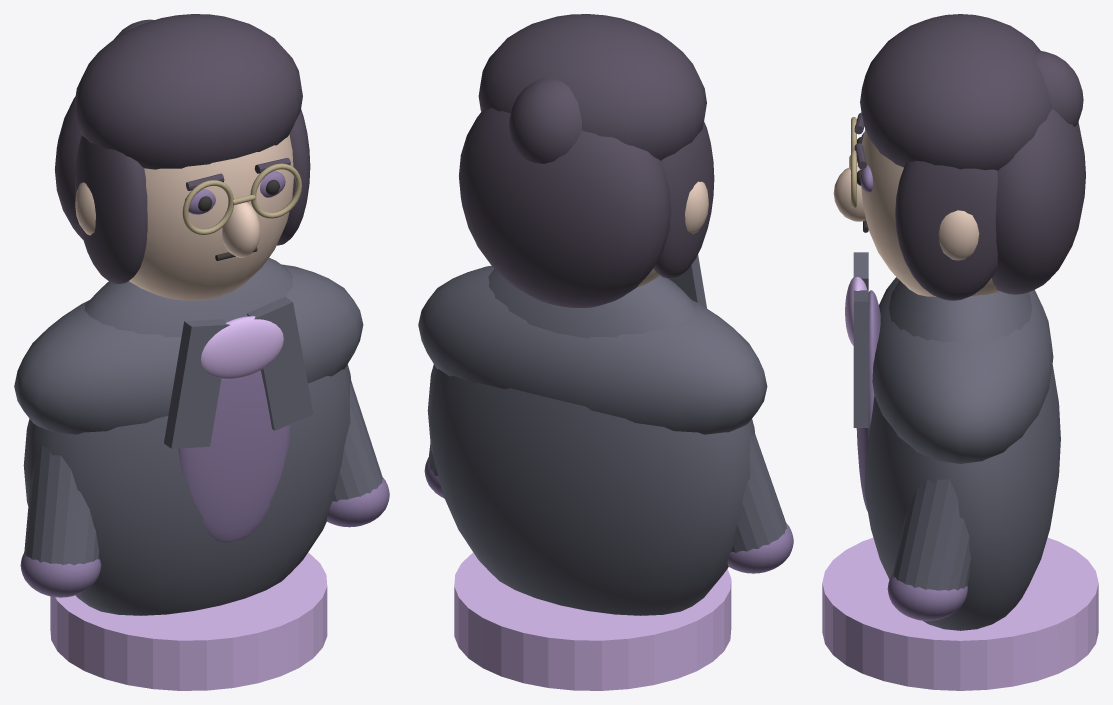
The model's file is quant.glb.
The picture shows the model from 3 angles, left to right: view 1: azimuth 30°, elevation 25°; view 2: azimuth 150°, elevation 25°; view 3: azimuth 270°, elevation 25°; orthographic projection.
Visible parts, largest first — view 1: Jacket torso, Hair cap, Bust plinth, Shoulder line, Head, Shirt front, Hair side lock.007, Arm.007, Jacket lapel.006, Jacket lapel.007, Violet collar, Arm (+8 smaller); view 2: Jacket torso, Shoulder line, Rear hair, Bust plinth, Hair cap, Hair bun, Hair side lock.007, Arm.007, Cuff.007, Ear.007, Jacket lapel.006; view 3: Jacket torso, Bust plinth, Hair cap, Shoulder line, Rear hair, Hair side lock, Arm, Head, Cuff, Jacket lapel.007, Hair bun, Shirt front (+4 smaller).
Boxes of the visible parts, <box> form: Jacket torso: <box>23,257,351,615</box>; Hair cap: <box>74,14,302,169</box>; Bust plinth: <box>50,552,327,690</box>; Shoulder line: <box>14,264,363,434</box>; Head: <box>129,134,293,300</box>; Shirt front: <box>178,370,290,542</box>; Hair side lock.007: <box>75,135,147,284</box>; Arm.007: <box>24,445,98,565</box>; Jacket lapel.006: <box>164,319,229,448</box>; Jacket lapel.007: <box>247,296,313,430</box>; Violet collar: <box>201,316,283,379</box>; Arm: <box>333,381,382,501</box>; Jacket torso: <box>427,269,755,615</box>; Shoulder line: <box>418,265,767,434</box>; Rear hair: <box>459,108,671,307</box>; Bust plinth: <box>454,552,731,690</box>; Hair cap: <box>478,14,706,160</box>; Hair bun: <box>509,78,582,163</box>; Hair side lock.007: <box>653,121,714,278</box>; Arm.007: <box>731,434,787,552</box>; Cuff.007: <box>727,523,793,573</box>; Ear.007: <box>685,181,708,233</box>; Jacket lapel.006: <box>668,255,706,308</box>; Jacket torso: <box>864,280,1060,630</box>; Bust plinth: <box>822,538,1098,690</box>; Hair cap: <box>860,14,1051,170</box>; Shoulder line: <box>872,277,1053,463</box>; Rear hair: <box>992,109,1085,294</box>; Hair side lock: <box>895,161,997,300</box>; Arm: <box>893,479,970,590</box>; Head: <box>860,129,999,296</box>; Cuff: <box>887,573,967,620</box>; Jacket lapel.007: <box>853,290,868,427</box>; Hair bun: <box>1035,50,1083,126</box>; Shirt front: <box>856,290,880,511</box>.
Size of the model in its own units: 1.64 by 2.65 by 1.1.
